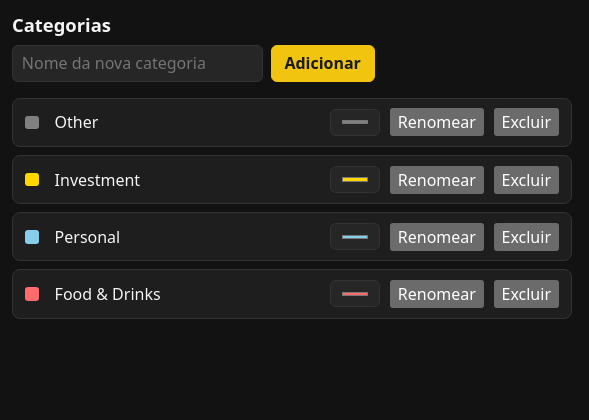
Test: Categories page › creates a category and rejects duplicates
The image size is (589, 420).
Step 1. Type "Transport" into the field labelled "Nome da nova categoria" → (137, 63), box [12,45,263,82]
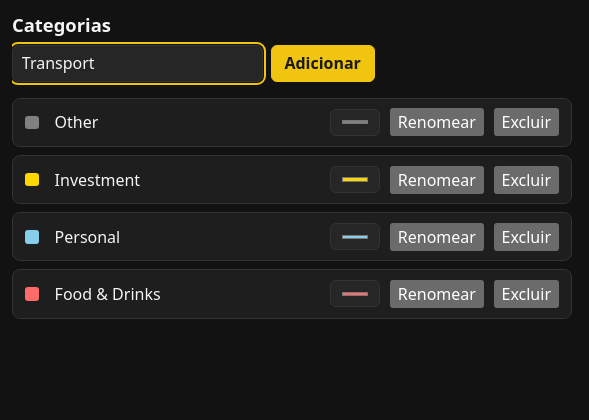
Step 2. Click the button "Adicionar" → (323, 63), box [271,45,375,82]
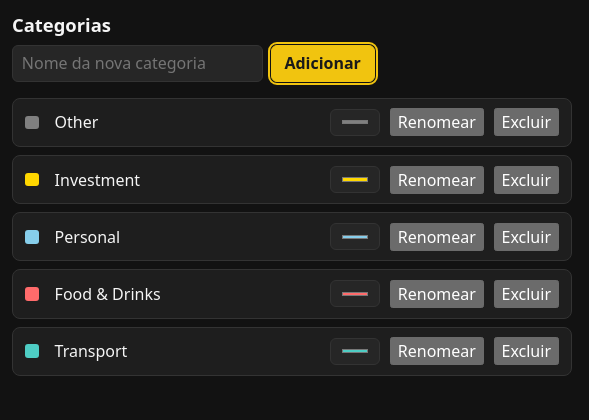
Step 3. Type "transport" into the field labelled "Nome da nova categoria" → (137, 63), box [12,45,263,82]
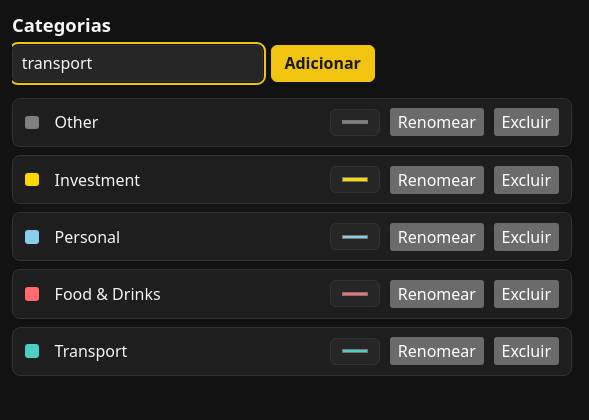
Step 4. Click the button "Adicionar" → (323, 63), box [271,45,375,82]
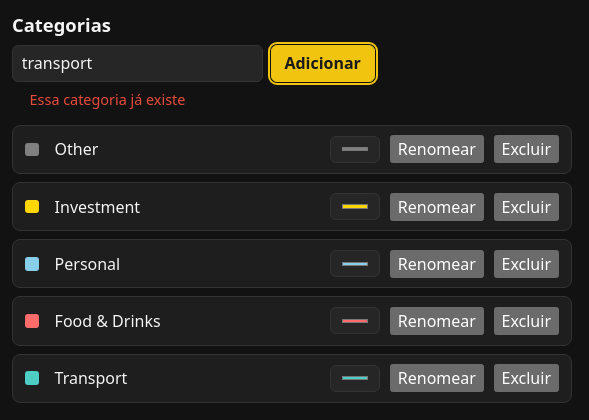
Expected: the message shows "já existe", [30,90,185,109]
